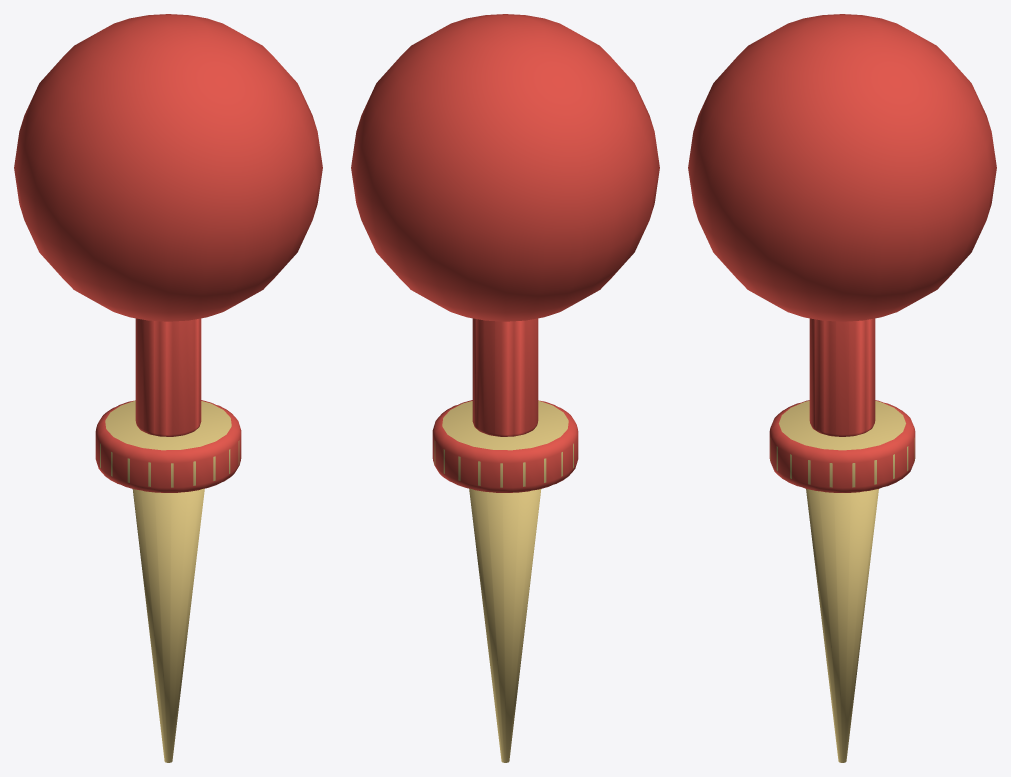
Rendered from SM_CommandPin.fbx.
The picture shows the model from 3 angles, left to right: view 1: azimuth 30°, elevation 25°; view 2: azimuth 150°, elevation 25°; view 3: azimuth 270°, elevation 25°; orthographic projection.
Visible parts, largest first — view 1: SM_CommandPin; view 2: SM_CommandPin; view 3: SM_CommandPin.
Boxes of the visible parts, x1=… form: SM_CommandPin: x1=14, y1=14, x2=322, y2=762; SM_CommandPin: x1=351, y1=14, x2=659, y2=762; SM_CommandPin: x1=688, y1=14, x2=996, y2=762.
Bounding box in the file's own units: 0.92 × 2.41 × 0.92.
